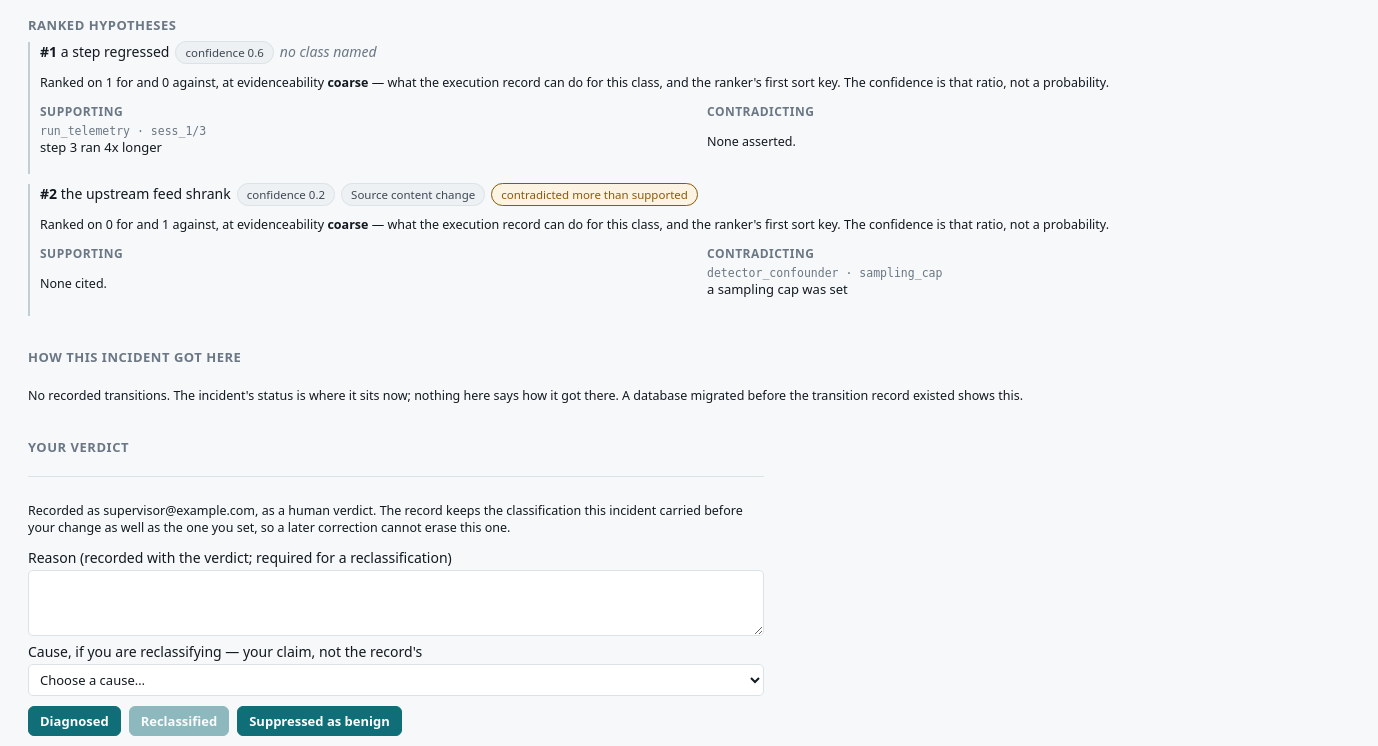
Scenario: the verdict control › sends no actor and no actor kind, and says who it was recorded as
The image size is (1378, 746).
(page scrolled)
Click the button "Suppressed as benign" at (320, 721), box [237,706,402,736]
(page scrolled)
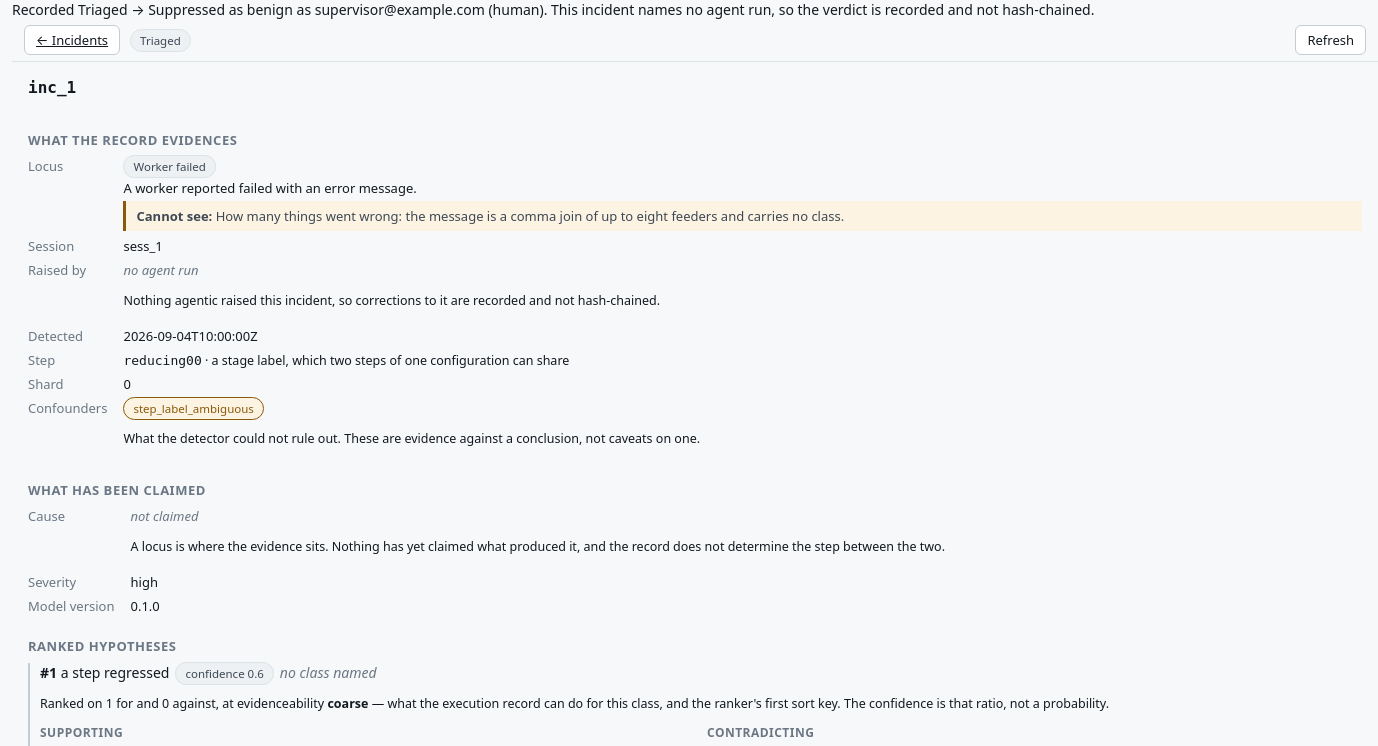
Check: the text with test id "banner" shows "supervisor@example.com (human)", box [12,0,1094,19]
